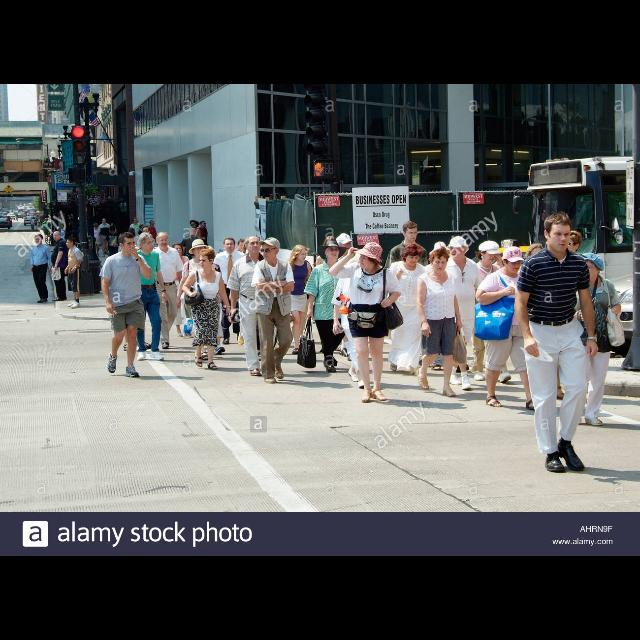head: (544, 213, 572, 253), (577, 254, 601, 284), (358, 244, 382, 270), (502, 250, 522, 276), (262, 238, 282, 262), (562, 232, 582, 256), (479, 242, 498, 266), (450, 235, 468, 259), (432, 248, 448, 274), (404, 245, 422, 268), (119, 233, 137, 255), (200, 248, 216, 270), (402, 221, 418, 243), (245, 236, 262, 254), (336, 234, 352, 253), (138, 234, 154, 252), (326, 242, 342, 260), (322, 236, 338, 252), (356, 250, 372, 266), (155, 232, 169, 250), (530, 245, 544, 263), (248, 238, 262, 254), (435, 244, 449, 260), (296, 245, 308, 263), (202, 246, 215, 262), (193, 244, 207, 258), (222, 238, 235, 252), (172, 244, 184, 258), (236, 238, 248, 252), (34, 234, 44, 246), (65, 238, 75, 250), (54, 232, 62, 242), (142, 227, 150, 237), (190, 221, 198, 229), (190, 228, 197, 236), (110, 227, 116, 235), (110, 224, 116, 230), (129, 229, 135, 235), (133, 218, 139, 224), (149, 220, 155, 226), (201, 222, 207, 228), (102, 218, 106, 224), (140, 226, 146, 230), (58, 228, 62, 232), (95, 226, 99, 230), (46, 218, 49, 222), (31, 218, 33, 220)
person: (514, 212, 600, 473), (329, 242, 407, 403), (473, 245, 547, 410), (560, 252, 626, 426), (539, 230, 593, 396), (227, 236, 286, 378), (516, 242, 568, 401), (435, 235, 487, 391), (297, 240, 357, 374), (416, 247, 468, 399), (99, 232, 153, 378), (332, 252, 382, 391), (384, 220, 430, 368), (250, 238, 296, 384), (384, 242, 430, 376), (182, 248, 232, 370), (471, 240, 513, 384), (324, 232, 368, 362), (126, 232, 168, 362), (176, 238, 220, 362), (426, 240, 462, 372), (148, 232, 186, 350), (212, 237, 252, 345), (280, 244, 318, 356), (316, 235, 352, 352), (238, 238, 270, 346), (200, 246, 226, 344), (168, 242, 192, 338), (230, 238, 256, 322), (30, 234, 54, 304), (49, 230, 70, 302), (64, 237, 85, 309), (180, 228, 202, 288), (136, 225, 156, 281), (103, 225, 121, 277), (194, 220, 210, 266), (124, 228, 138, 276), (186, 220, 200, 266), (97, 218, 113, 258), (129, 217, 143, 259), (138, 223, 152, 264), (50, 226, 66, 254), (148, 220, 158, 260), (92, 222, 102, 258), (106, 222, 118, 252), (42, 218, 52, 242), (30, 217, 36, 231)
